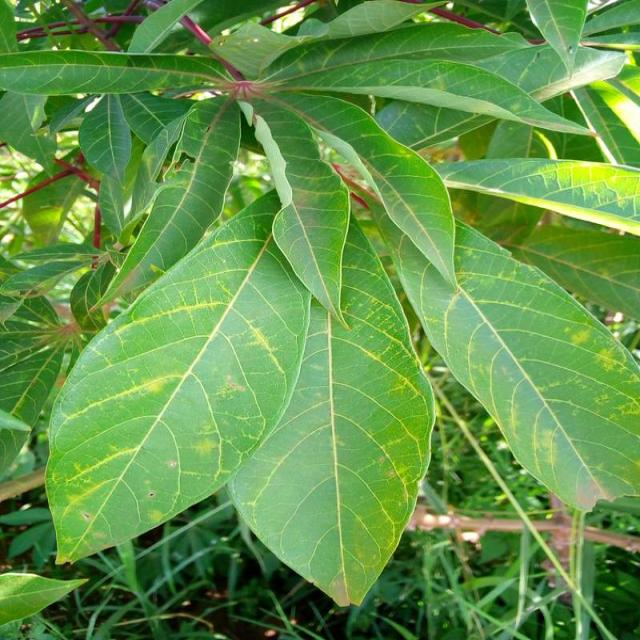cassava leaf: (2, 2, 638, 610), (43, 184, 312, 566), (225, 197, 436, 607), (385, 215, 638, 514)
